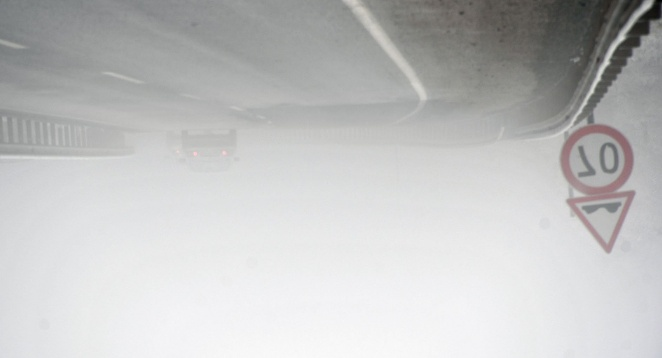Speed limit: (550, 119, 633, 193)
Uneven road: (568, 191, 641, 254)
